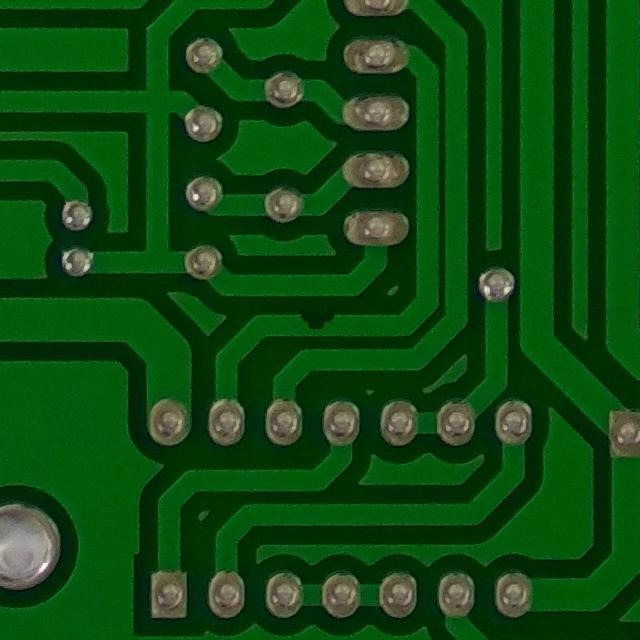mouse_bite: (288, 301, 351, 340)
